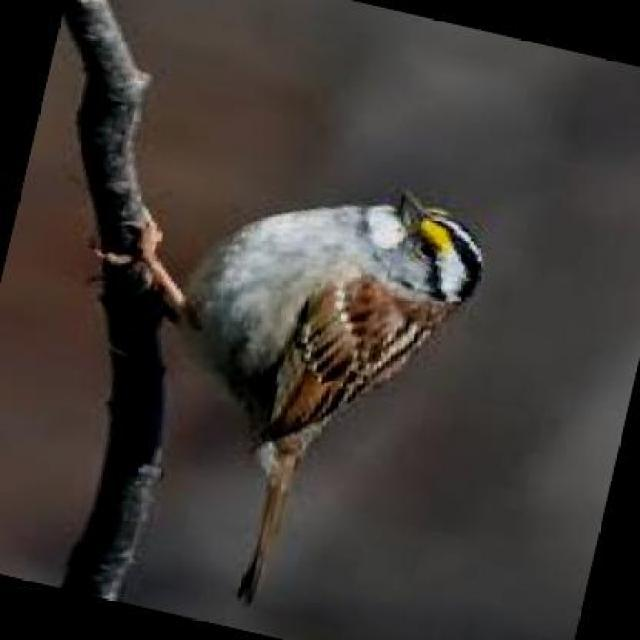Bird: (99, 183, 489, 609)
